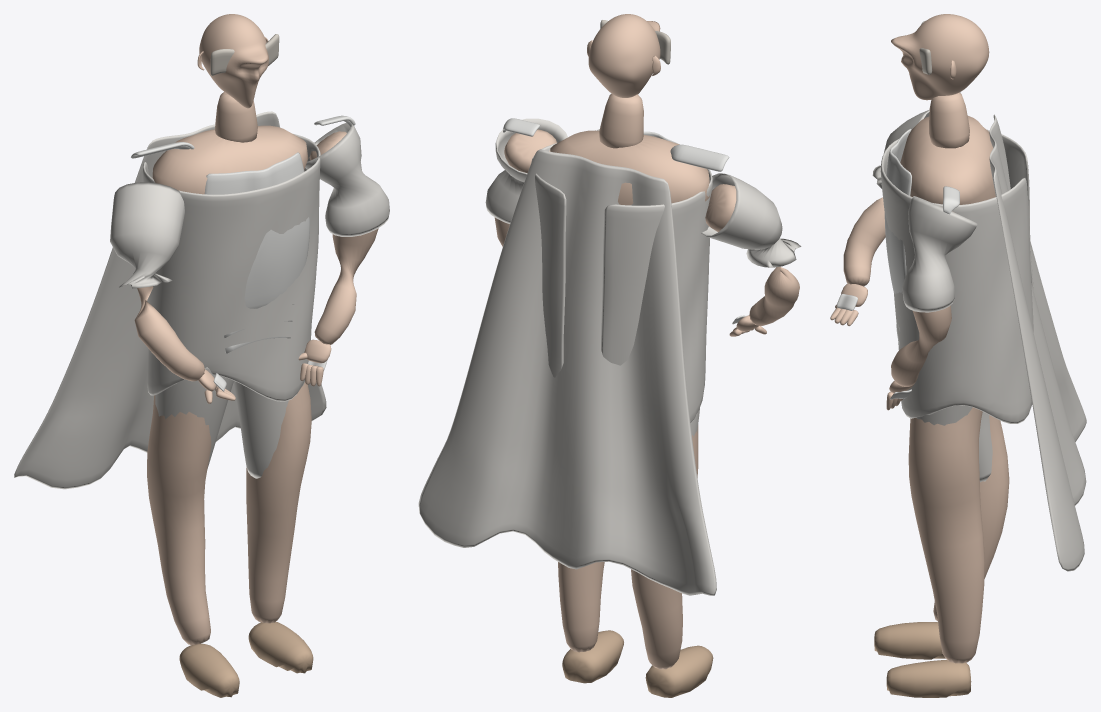
Rendered from monolith_soldier.glb.
3 renders of one model, left to right at view 1: azimuth 30°, elevation 25°; view 2: azimuth 150°, elevation 25°; view 3: azimuth 270°, elevation 25°, orthographic. The views are drawn at different scales.
Visible parts, largest first — view 1: Robe, Cape, LegR, LegL, SleeveR, Body, Plate, SleeveL, Head, ArmL, BreechL, ArmR (+5 smaller); view 2: Cape, Robe, Body, Head, SleeveR, LegR, LegL, ArmR, SleeveL, BootR, BootL, Neck (+2 smaller); view 3: Robe, LegL, Cape, Body, Head, SleeveL, LegR, BootL, ArmR, ArmL, BootR, Neck (+4 smaller).
Part boxes in pixels (bbox=[...]): Robe: bbox=[142, 134, 320, 401]; Cape: bbox=[14, 111, 326, 489]; LegR: bbox=[147, 395, 211, 644]; LegL: bbox=[246, 382, 311, 623]; SleeveR: bbox=[110, 182, 184, 288]; Body: bbox=[152, 125, 308, 194]; Plate: bbox=[204, 152, 309, 308]; SleeveL: bbox=[305, 123, 389, 236]; Head: bbox=[199, 14, 268, 108]; ArmL: bbox=[309, 131, 378, 344]; BreechL: bbox=[233, 381, 304, 478]; ArmR: bbox=[134, 286, 204, 381]; Cape: bbox=[418, 149, 716, 595]; Robe: bbox=[531, 143, 712, 423]; Body: bbox=[550, 130, 709, 205]; Head: bbox=[588, 14, 660, 97]; SleeveR: bbox=[701, 173, 801, 267]; LegR: bbox=[631, 425, 698, 669]; LegL: bbox=[558, 562, 604, 652]; ArmR: bbox=[705, 184, 799, 326]; SleeveL: bbox=[485, 118, 567, 223]; BootR: bbox=[645, 645, 713, 697]; BootL: bbox=[562, 630, 623, 683]; Neck: bbox=[599, 93, 643, 148]; Robe: bbox=[880, 129, 1033, 423]; LegL: bbox=[908, 407, 984, 663]; Cape: bbox=[989, 114, 1086, 571]; Body: bbox=[900, 116, 995, 204]; Head: bbox=[891, 14, 989, 100]; SleeveL: bbox=[902, 196, 977, 312]; LegR: bbox=[933, 415, 1009, 621]; BootL: bbox=[886, 660, 971, 697]; ArmR: bbox=[843, 197, 885, 286]; ArmL: bbox=[891, 207, 954, 386]; BootR: bbox=[874, 622, 945, 659]; Neck: bbox=[929, 92, 969, 148].
Bounding box in the file's own units: 0.8764 × 1.79 × 0.6383.
